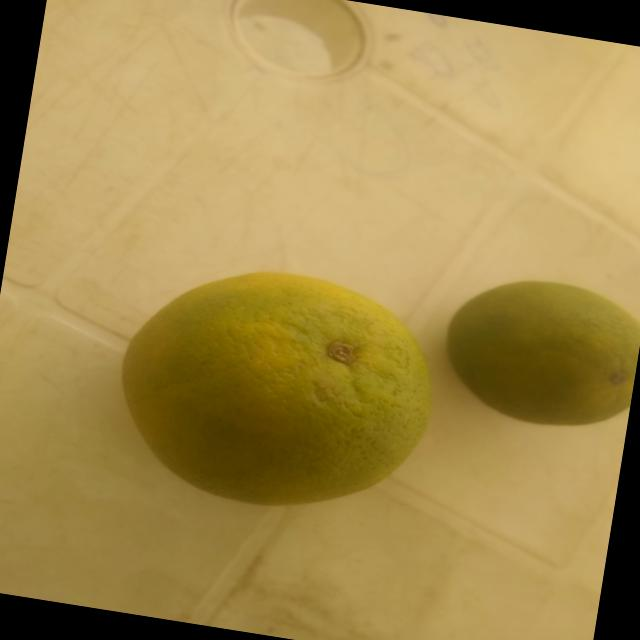Unripe: (90, 228, 457, 543), (425, 257, 640, 450)
